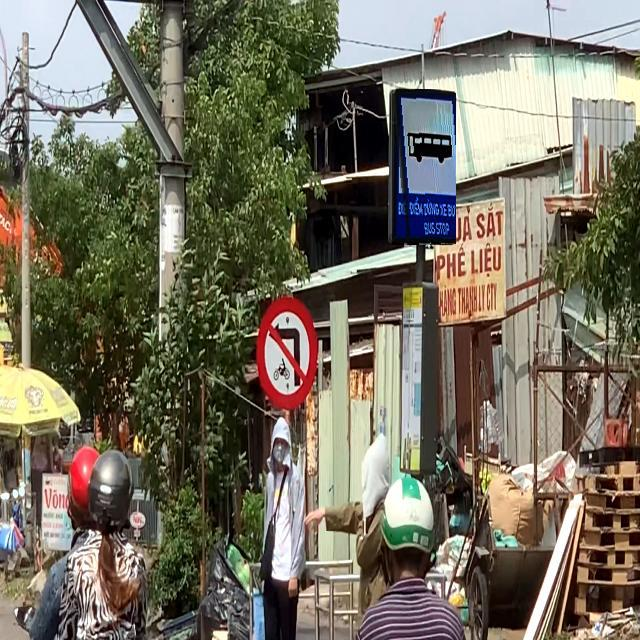R-434: (392, 89, 456, 245)
